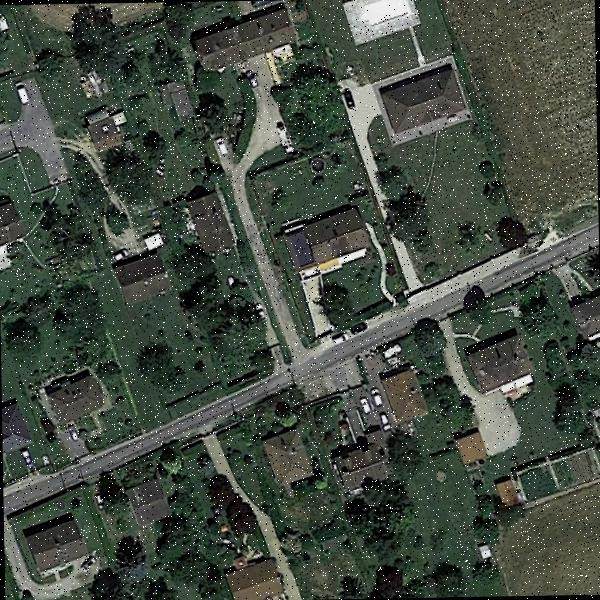Buildings: (195, 3, 293, 71), (381, 66, 464, 131), (294, 210, 367, 264), (470, 335, 532, 386), (264, 428, 311, 487), (51, 372, 102, 424), (331, 442, 385, 488), (223, 559, 281, 600), (118, 258, 169, 304), (30, 525, 82, 566), (198, 195, 230, 250), (1, 406, 30, 448), (133, 482, 163, 520), (0, 204, 20, 257), (396, 377, 420, 421), (579, 299, 600, 334)
